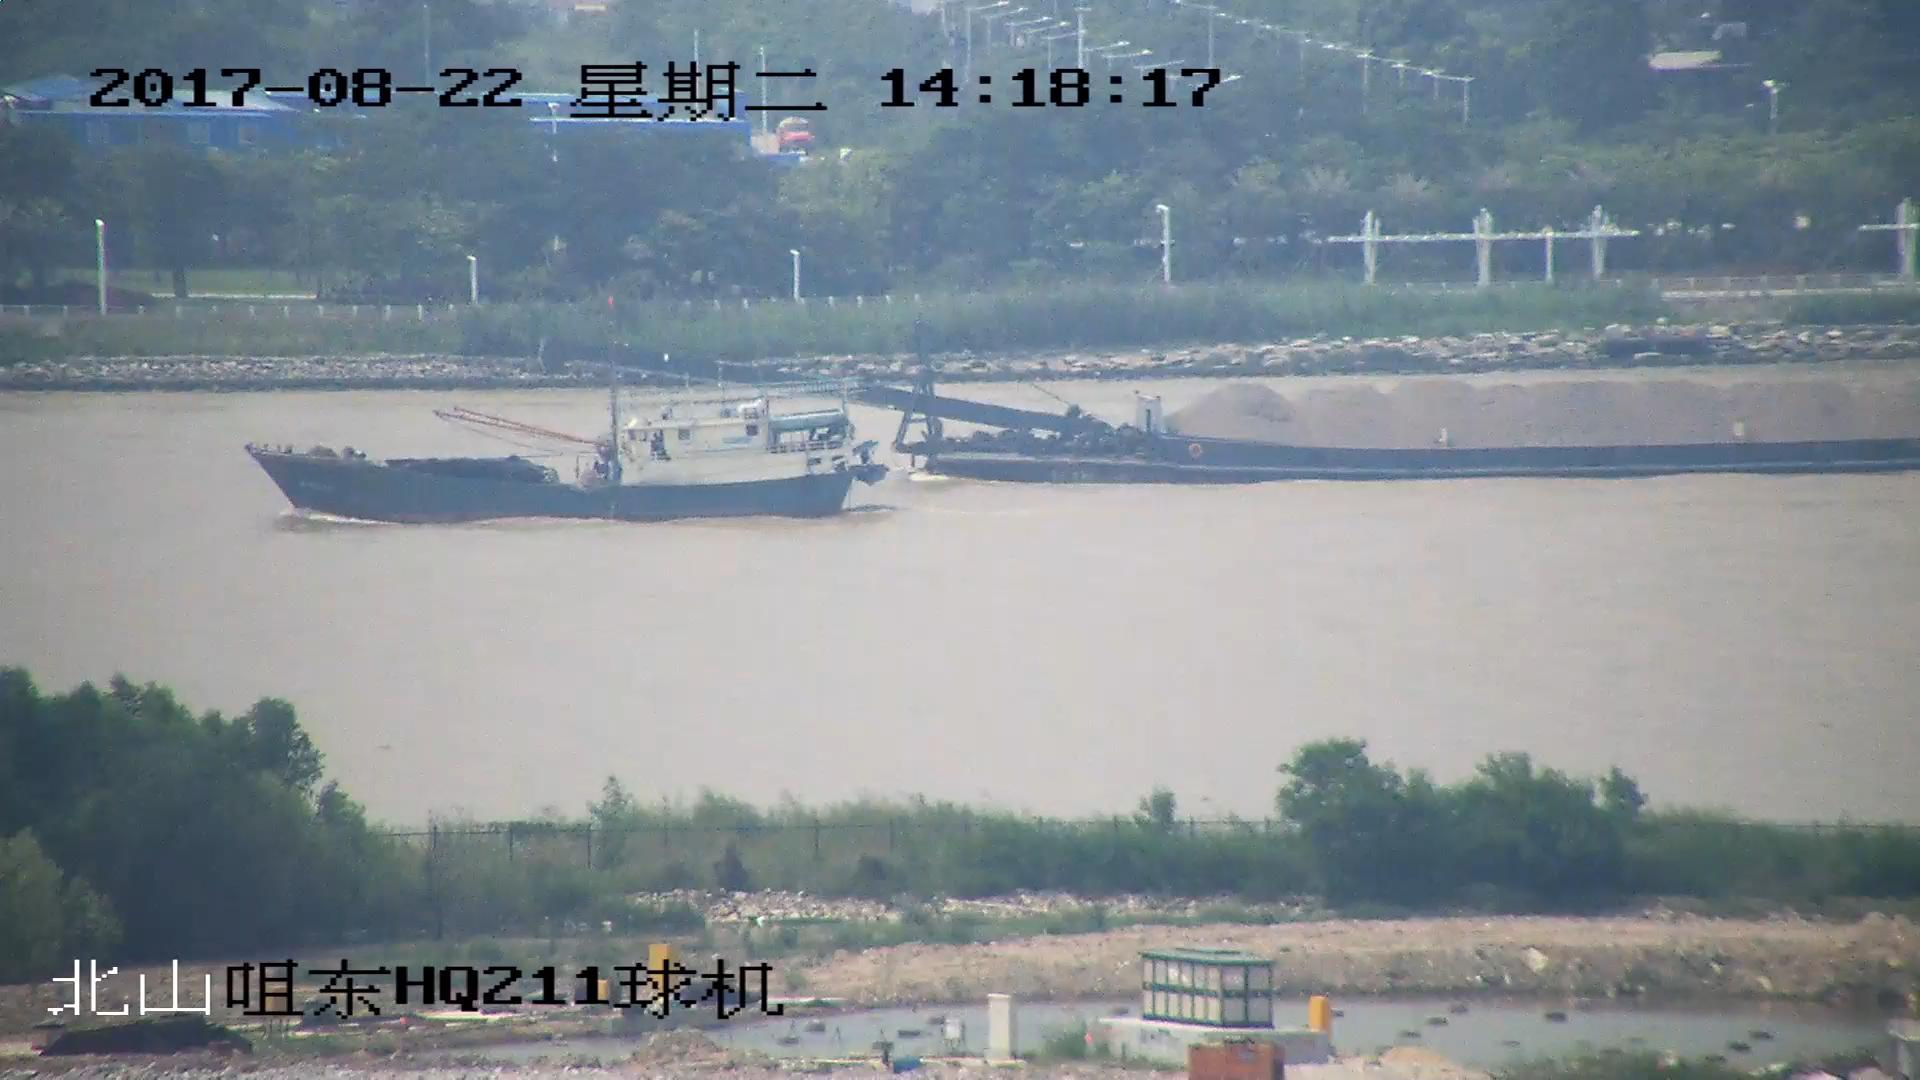Ship: (545, 340, 1920, 484), (243, 301, 890, 524)
